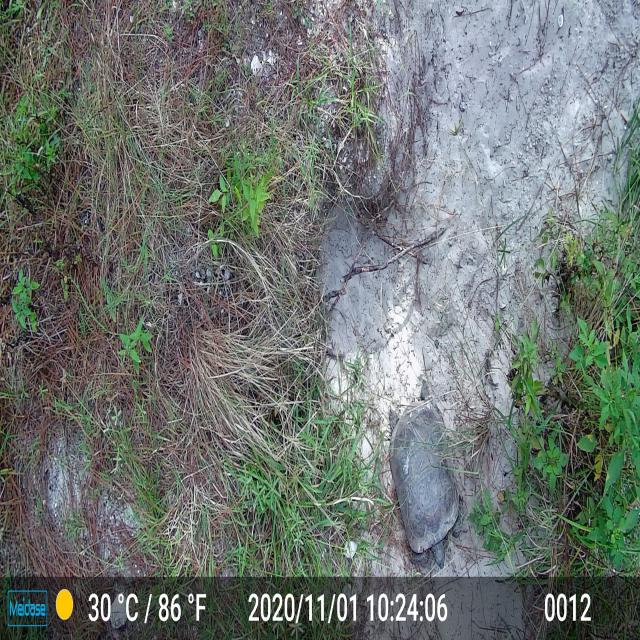tortoise: (384, 372, 468, 576)
